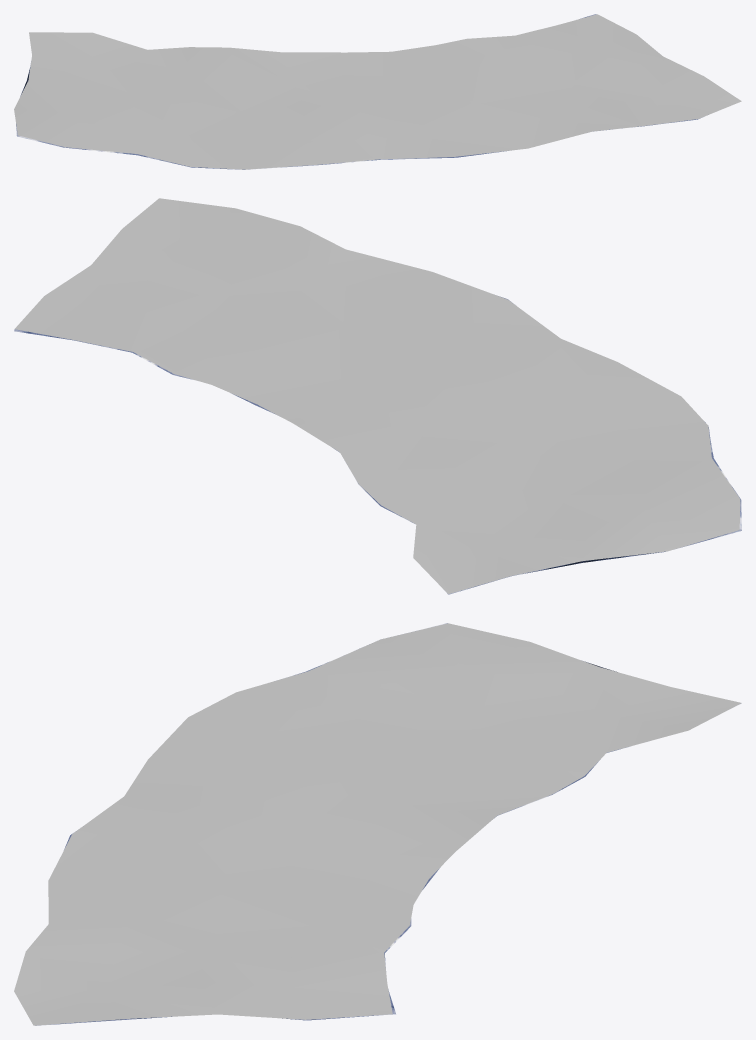
Rendered from EKH_ENTRANCE_WATER_EN_WATER_01.obj.
3 views of the same model, one above another, from view 1: azimuth 30°, elevation 25°; view 2: azimuth 150°, elevation 25°; view 3: azimuth 270°, elevation 25° (orthographic). The views are drawn at different scales.
Visible parts, largest first — view 1: EN_Water_01; view 2: EN_Water_01; view 3: EN_Water_01.
Boxes of the visible parts, x1=… form: EN_Water_01: x1=14, y1=14, x2=741, y2=169; EN_Water_01: x1=14, y1=198, x2=741, y2=594; EN_Water_01: x1=14, y1=623, x2=741, y2=1025.
Bounding box in the file's own units: 2162 × 14.58 × 1651.
